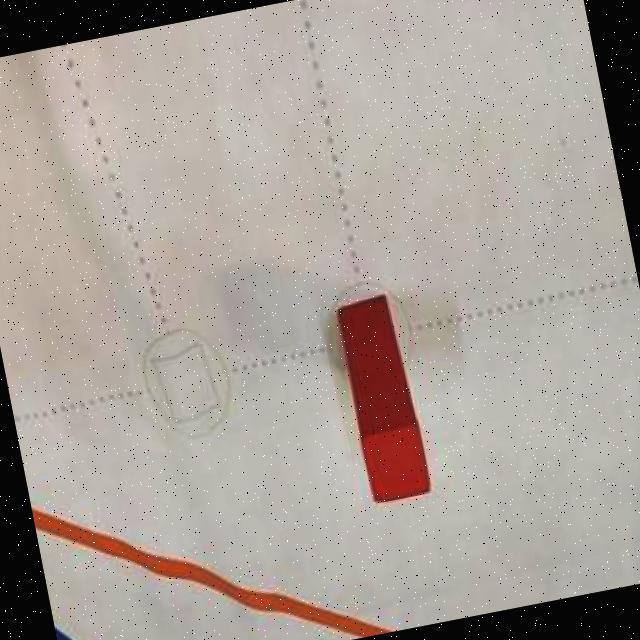redbox: (328, 290, 432, 508)
